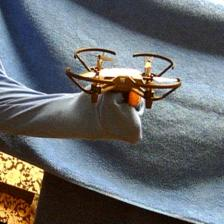drone: (66, 48, 182, 112)
